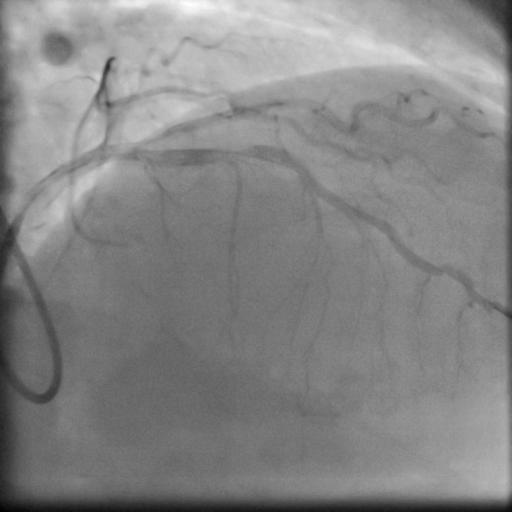Stenosis: (221, 143, 248, 163)
